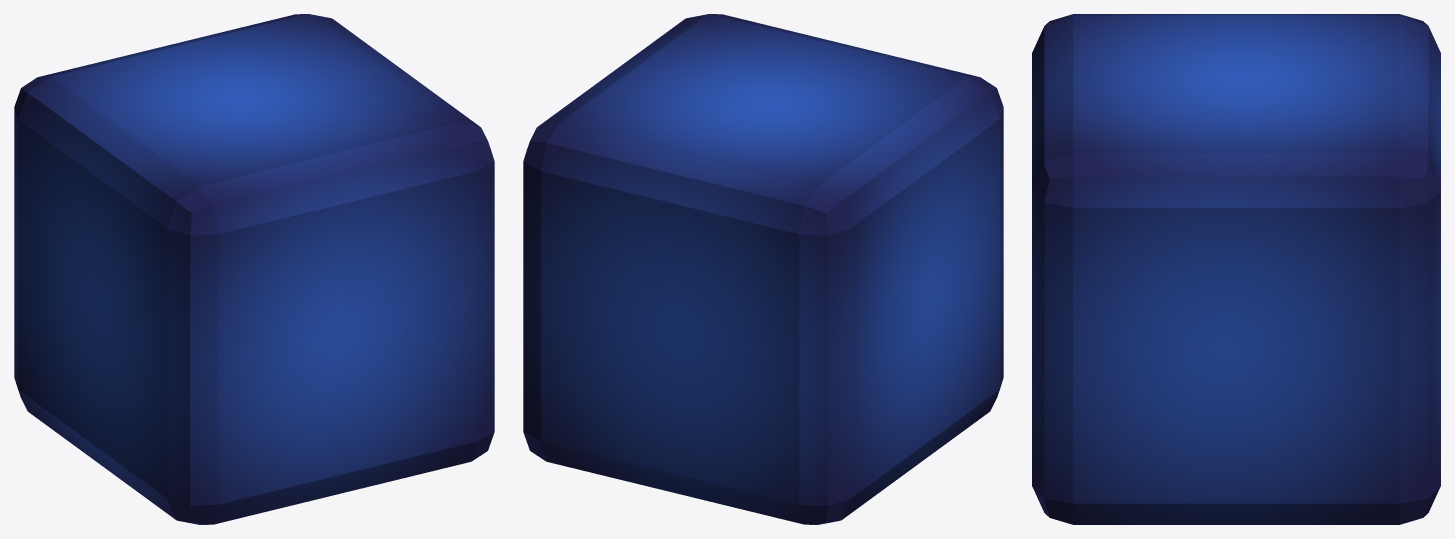
The model's file is block-1.fbx.
3 views of the same model, side by side, from view 1: azimuth 30°, elevation 25°; view 2: azimuth 150°, elevation 25°; view 3: azimuth 270°, elevation 25° (orthographic). The views are drawn at different scales.
Visible parts, largest first — view 1: Cube.004; view 2: Cube.004; view 3: Cube.004.
Part boxes in pixels (x1,y1,x2,y2): Cube.004: (14, 14, 494, 524); Cube.004: (523, 14, 1003, 524); Cube.004: (1032, 14, 1440, 524).
Bounding box in the file's own units: 154 × 154 × 154.
